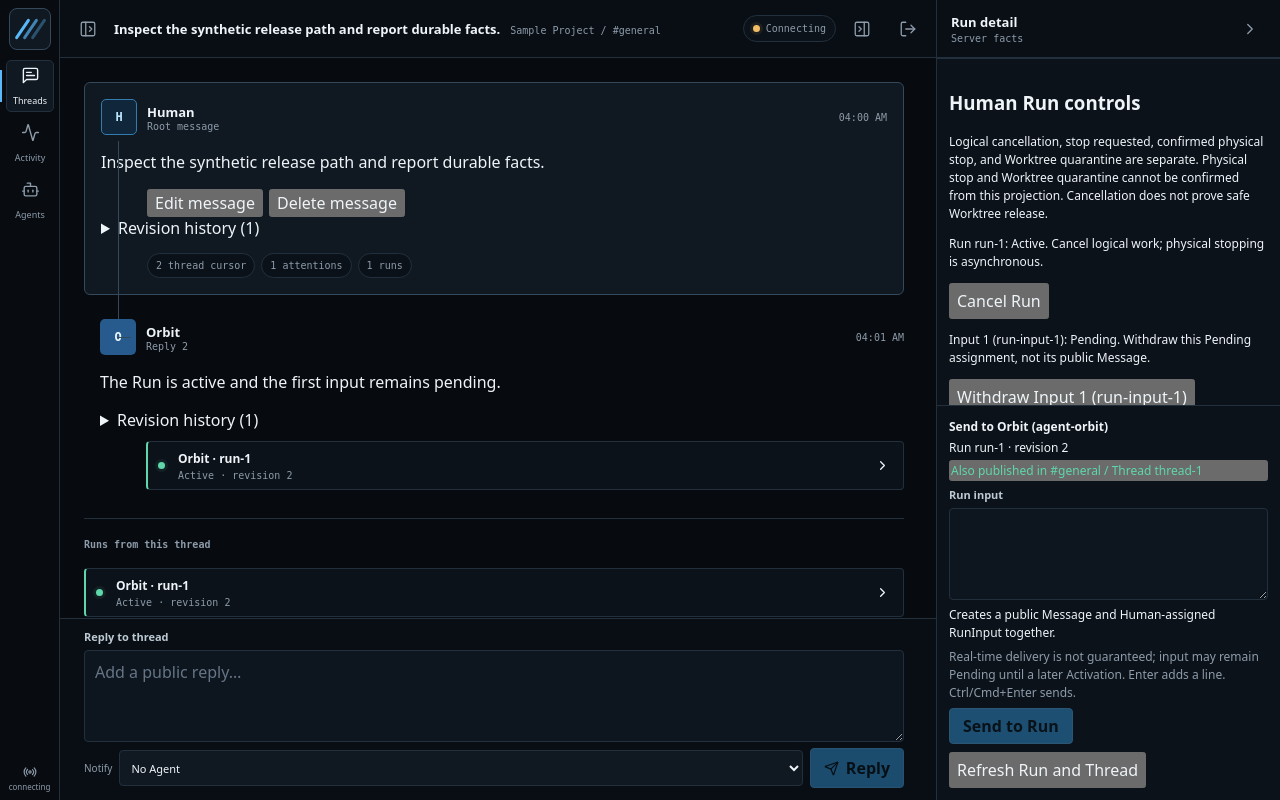
Scenario: Rendered Human cancel controls (MVP 44.2.1) › reports conflict without claiming a commit and requires refresh
Click the button "Cancel Run" at (999, 301), box [949,283,1049,319]
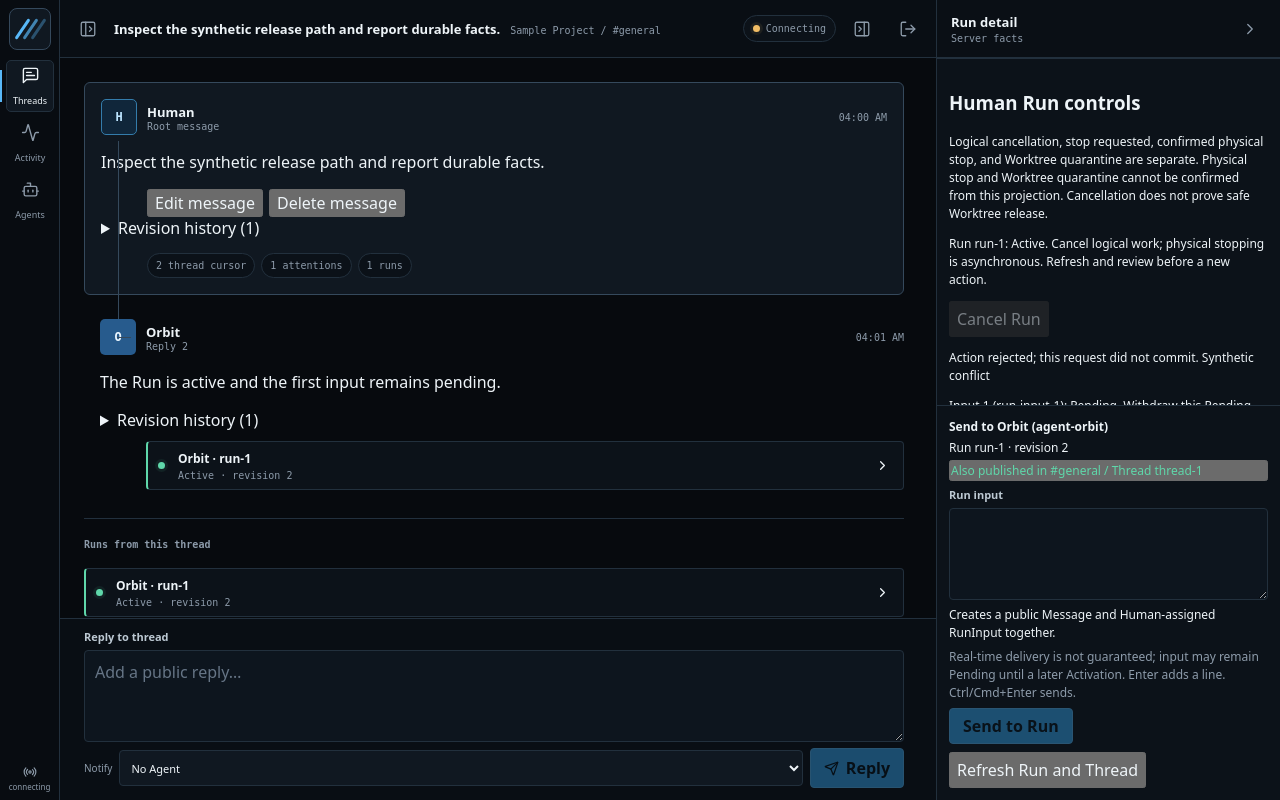
Check: the message "Action rejected; this request did not commit. Synthetic conflict" is shown, box [949,349,1268,385]
Check: the button "Cancel Run" is disabled, box [949,301,1049,337]
Check: the element "Human Run controls" shows "Refresh and review", box [949,253,1230,288]
